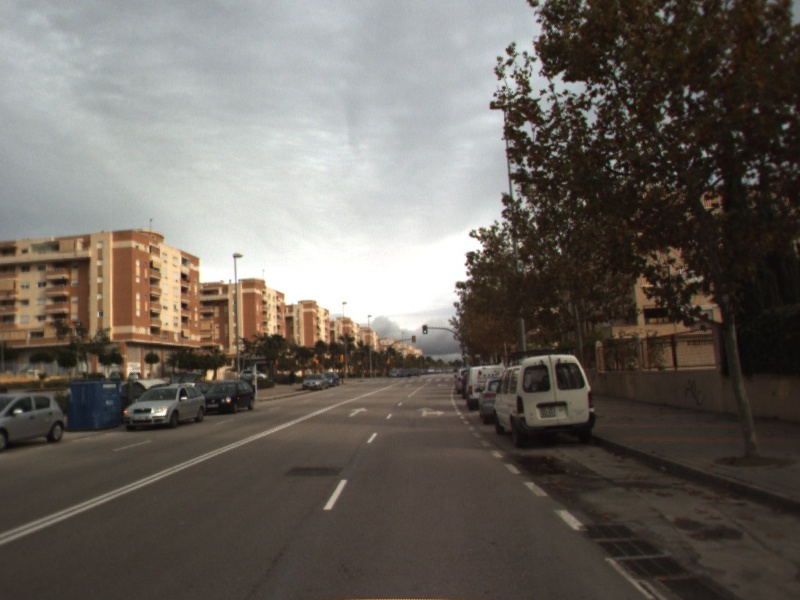STRAIGHT: (346, 405, 370, 419)
STRAIGHT_RIGHT: (414, 404, 447, 418)
